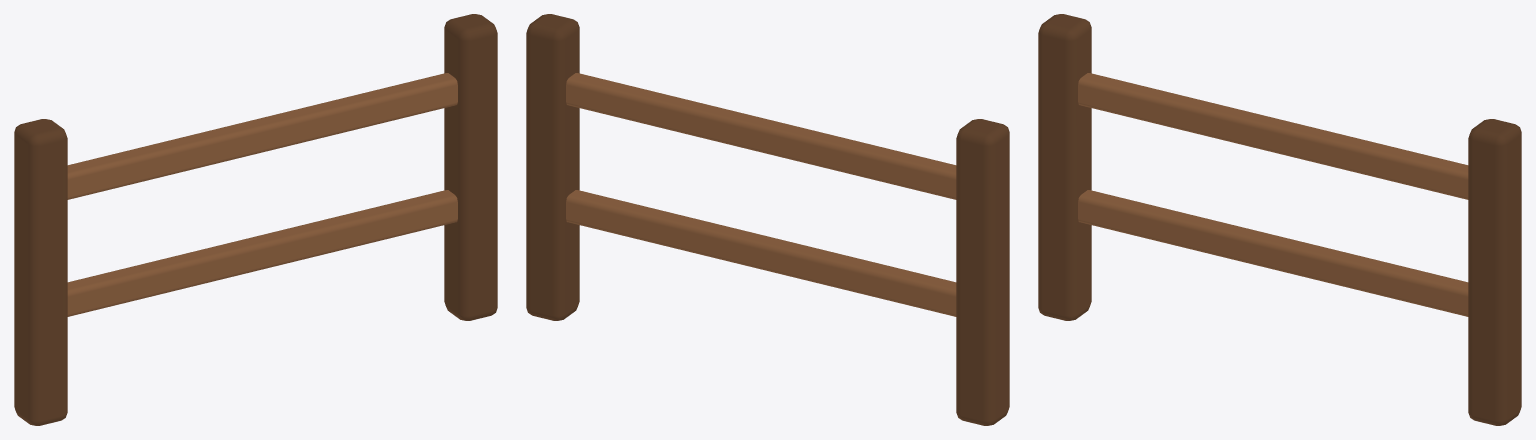
Rendered from fence.glb.
3 views of the same model, side by side, from view 1: azimuth 30°, elevation 25°; view 2: azimuth 150°, elevation 25°; view 3: azimuth 330°, elevation 25° (orthographic).
Parts seen in each view (by area): view 1: fence; view 2: fence; view 3: fence.
Part boxes in pixels (left/top/right/bottom): fence: left=14, top=14, right=497, bottom=425; fence: left=526, top=14, right=1009, bottom=425; fence: left=1038, top=14, right=1521, bottom=425.
Size of the model in its own units: 2.18 by 1.3 by 0.18.
